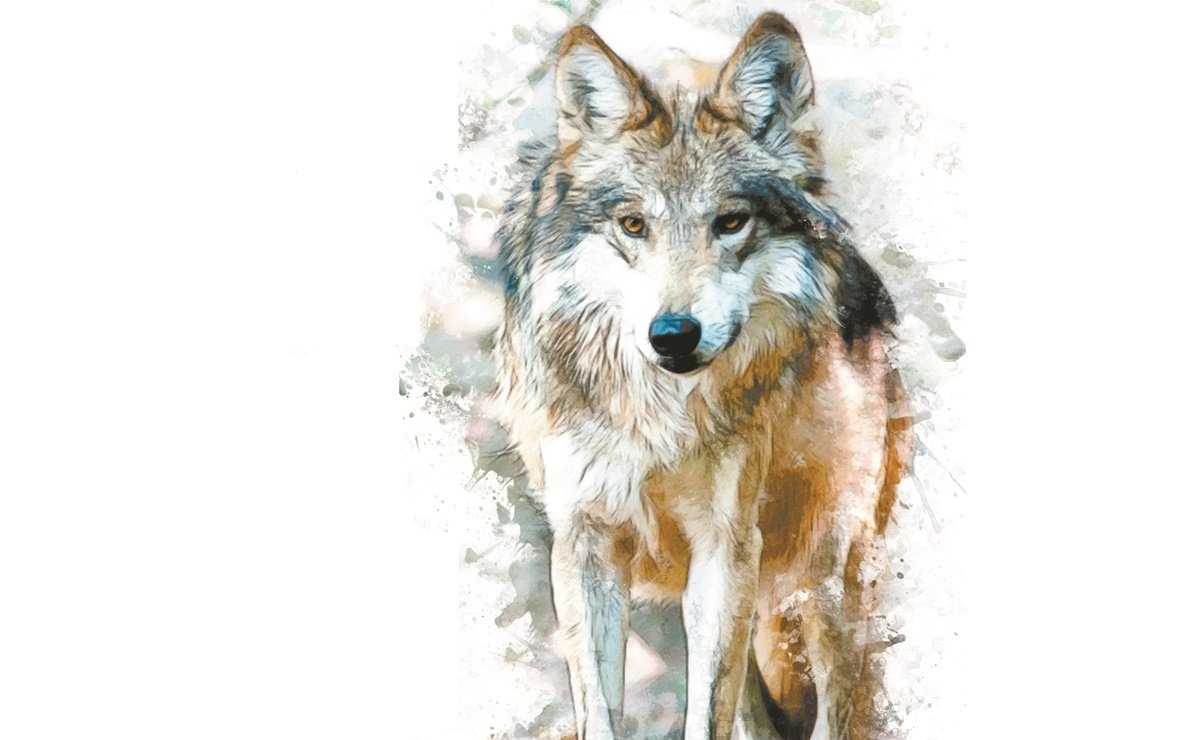Lobo: (474, 25, 927, 717)
